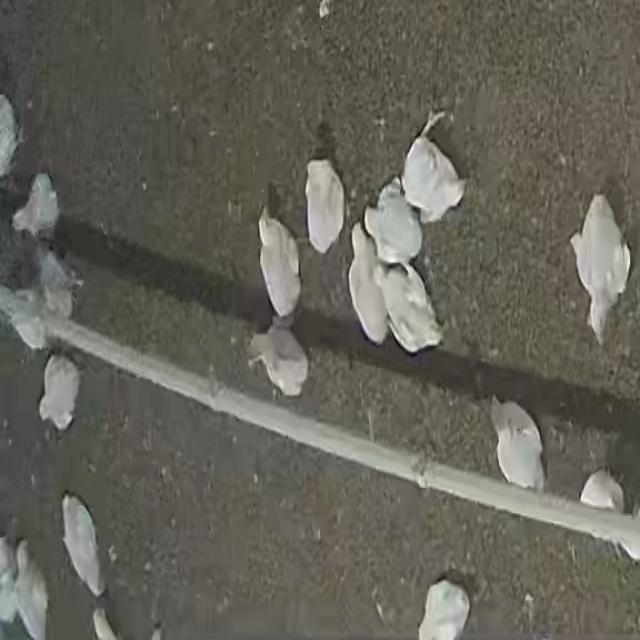chicken: (568, 190, 633, 344), (344, 219, 394, 347), (490, 394, 552, 497), (374, 261, 440, 350), (404, 135, 467, 222), (362, 177, 424, 263), (258, 207, 304, 318), (60, 492, 107, 596), (247, 324, 309, 397), (34, 240, 81, 324), (13, 538, 50, 637), (306, 163, 346, 254), (36, 355, 82, 431), (11, 170, 61, 236), (417, 579, 471, 640), (581, 468, 620, 543)
